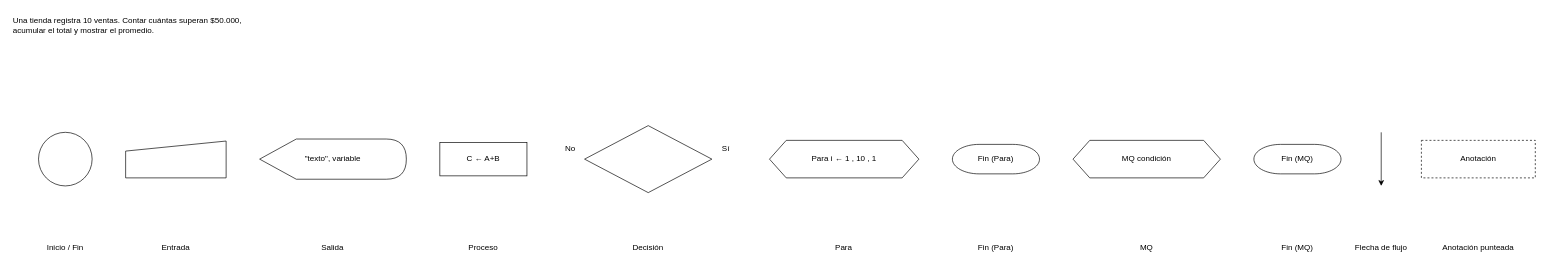
The diagram is 1547 pixels wide and 267 high, and some of its shapes have lost their labels. The shapes that lost their labels are listed below. From the top down, each one's centre as x and y in pixels, then its label:
At point (65, 159): "Inicio".
At point (175, 159): "A,B".
At point (648, 159): "condición".
